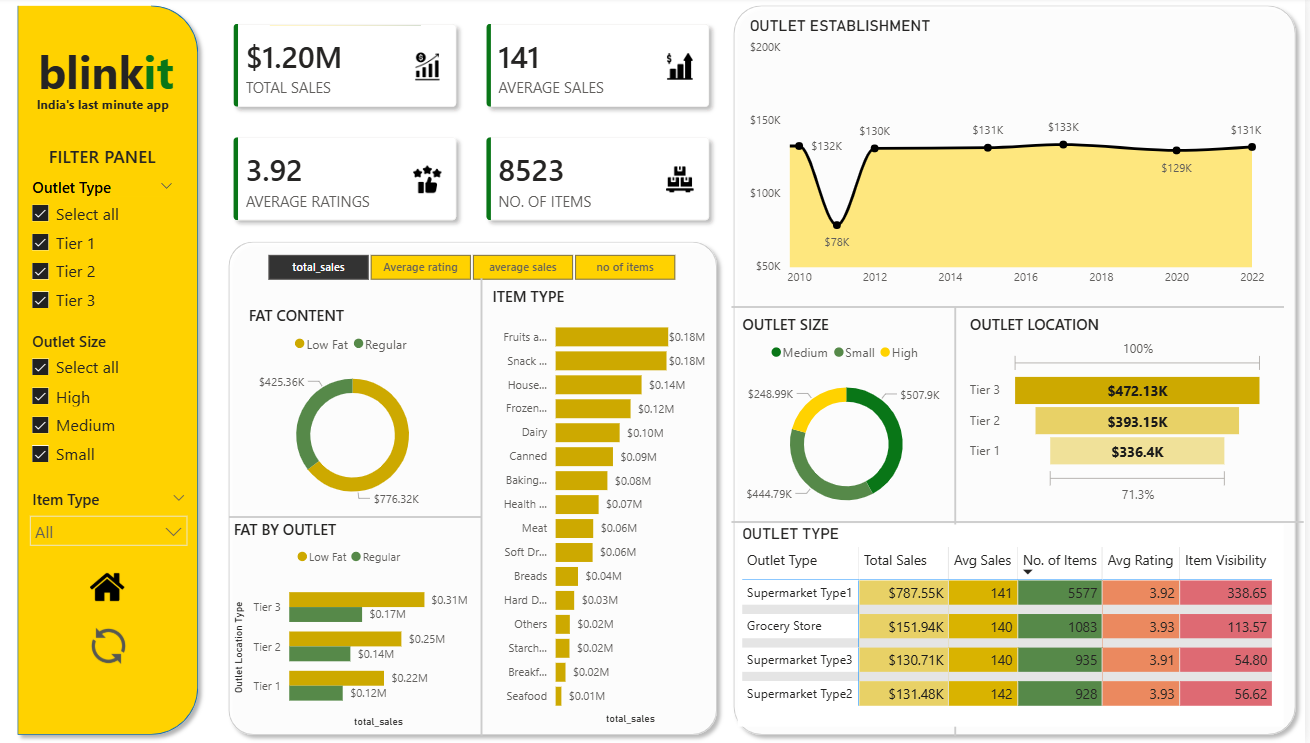

The page's visual inventory and layout, read from the dashboard file:
{"tool":"powerbi","page":{"name":"Page 1","canvas":[1400,800],"ordinal":0},"visuals":[{"type":"shape","box":[10.7,0,211.8,800.3],"z":0},{"type":"textbox","box":[26.8,41.6,175.6,73.7],"z":1000},{"type":"textbox","box":[10.7,100.5,201.1,28.2],"z":2000},{"type":"cardVisual","fields":{"Data":["BlinkIT Grocery Data (2).total_sales","BlinkIT Grocery Data (2).average sales","BlinkIT Grocery Data (2).Average rating","BlinkIT Grocery Data (2).no of items"]},"box":[222.5,0,569.7,269.4],"z":3000},{"type":"shape","box":[237.3,253.4,541.6,546.9],"z":4000},{"type":"donutChart","title":"FAT CONTENT","fields":{"Y":["BlinkIT Grocery Data (2).Average Sales"],"Category":["BlinkIT Grocery Data (2).Item Fat Content"]},"box":[262.7,329.8,233.2,229.2],"z":5000},{"type":"slicer","fields":{"Values":["Metrics.Metrics"]},"box":[262.7,269.4,486.6,40.2],"z":6000},{"type":"clusteredBarChart","title":"FAT BY OUTLET","fields":{"Y":["BlinkIT Grocery Data (2).Average Sales"],"Category":["BlinkIT Grocery Data (2).Outlet Location Type"],"Series":["BlinkIT Grocery Data (2).Item Fat Content"]},"box":[246.7,559,261.4,229.2],"z":7000},{"type":"shape","box":[246.7,546.9,270.8,21.4],"z":8000},{"type":"shape","box":[506.7,301.6,21.4,490.6],"z":9000},{"type":"barChart","title":"ITEM TYPE","fields":{"Y":["BlinkIT Grocery Data (2).Average Sales"],"Category":["BlinkIT Grocery Data (2).Item Type"]},"box":[524.1,309.7,238.6,475.9],"z":10000},{"type":"shape","box":[778.8,0,620.6,800.3],"z":11000},{"type":"lineChart","title":"OUTLET ESTABLISHMENT","fields":{"Category":["BlinkIT Grocery Data (2).Outlet Establishment Year"],"Y":["BlinkIT Grocery Data (2).Total Sales"]},"box":[800.3,20.1,561.7,298.9],"z":12000},{"type":"shape","box":[785.5,319,592.5,26.8],"z":13000},{"type":"donutChart","title":"OUTLET SIZE","fields":{"Y":["BlinkIT Grocery Data (2).Total Sales"],"Category":["BlinkIT Grocery Data (2).Outlet Size"]},"box":[792.2,339.1,233.2,229.2],"z":14000},{"type":"shape","box":[1014.8,332.4,21.4,459.8],"z":15000},{"type":"funnel","title":"OUTLET LOCATION","fields":{"Category":["BlinkIT Grocery Data (2).Outlet Location Type"],"Y":["BlinkIT Grocery Data (2).Total Sales"]},"box":[1036.2,339.1,325.7,209.1],"z":16000},{"type":"pivotTable","title":"OUTLET TYPE","fields":{"Rows":["BlinkIT Grocery Data (2).Outlet Type"],"Values":["BlinkIT Grocery Data (2).Total Sales","BlinkIT Grocery Data (2).Average Sales","BlinkIT Grocery Data (2).No. of Items","BlinkIT Grocery Data (2).Average Rating","Sum(BlinkIT Grocery Data (2).Item Visibility)"]},"box":[792.2,568.4,585.8,217.2],"z":17000},{"type":"slicer","fields":{"Values":["BlinkIT Grocery Data (2).Outlet Location Type"]},"box":[22.8,187.7,175.6,164.9],"z":17001},{"type":"slicer","fields":{"Values":["BlinkIT Grocery Data (2).Outlet Size"]},"box":[22.8,352.5,175.6,170.2],"z":17002},{"type":"slicer","fields":{"Values":["BlinkIT Grocery Data (2).Item Type"]},"box":[22.8,522.8,189,91.2],"z":17003},{"type":"textbox","box":[48.3,152.8,136.7,34.9],"z":17004},{"type":"image","box":[95.2,613.9,41.6,37.5],"z":17005},{"type":"image","box":[93.8,674.3,46.9,42.9],"z":17006}]}

Visuals, with their boxes in screenshot pixels (x1, y1, x2, y2), scaled from the page's 1400x800 canvas onto the 1310x743 screenshot:
shape: <box>10,0,208,742</box>
textbox: <box>25,39,189,107</box>
textbox: <box>10,93,198,120</box>
cardVisual - BlinkIT Grocery Data (2).total_sales x BlinkIT Grocery Data (2).average sales: <box>208,0,741,250</box>
shape: <box>222,235,729,742</box>
"FAT CONTENT" donutChart: <box>246,306,464,519</box>
slicer - Metrics.Metrics: <box>246,250,701,288</box>
"FAT BY OUTLET" clusteredBarChart: <box>231,519,475,732</box>
shape: <box>231,508,484,528</box>
shape: <box>474,280,494,736</box>
"ITEM TYPE" barChart: <box>490,288,714,730</box>
shape: <box>729,0,1309,742</box>
"OUTLET ESTABLISHMENT" lineChart: <box>749,19,1274,296</box>
shape: <box>735,296,1289,321</box>
"OUTLET SIZE" donutChart: <box>741,315,959,528</box>
shape: <box>950,309,970,736</box>
"OUTLET LOCATION" funnel: <box>970,315,1274,509</box>
"OUTLET TYPE" pivotTable: <box>741,528,1289,730</box>
slicer - BlinkIT Grocery Data (2).Outlet Location Type: <box>21,174,186,327</box>
slicer - BlinkIT Grocery Data (2).Outlet Size: <box>21,327,186,485</box>
slicer - BlinkIT Grocery Data (2).Item Type: <box>21,486,198,570</box>
textbox: <box>45,142,173,174</box>
image: <box>89,570,128,605</box>
image: <box>88,626,132,666</box>
